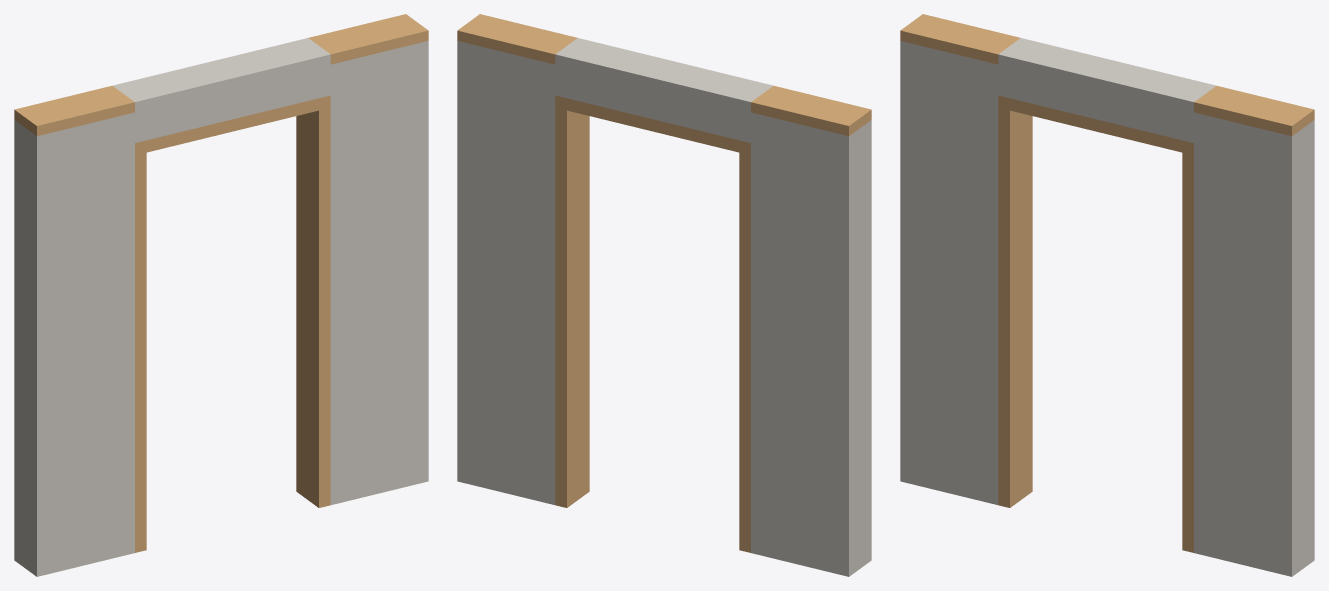
File: raum_wand_tuer.glb
3 views of the same model, side by side, from view 1: azimuth 30°, elevation 25°; view 2: azimuth 150°, elevation 25°; view 3: azimuth 330°, elevation 25° (orthographic).
Visible parts, largest first — view 1: raum_wand_tuer; view 2: raum_wand_tuer; view 3: raum_wand_tuer.
Part boxes in pixels (x1,y1,x2,y2): raum_wand_tuer: (14,14,428,576); raum_wand_tuer: (457,14,871,576); raum_wand_tuer: (900,14,1314,576).
Size of the model in its own units: 2 by 2.2 by 0.2.
